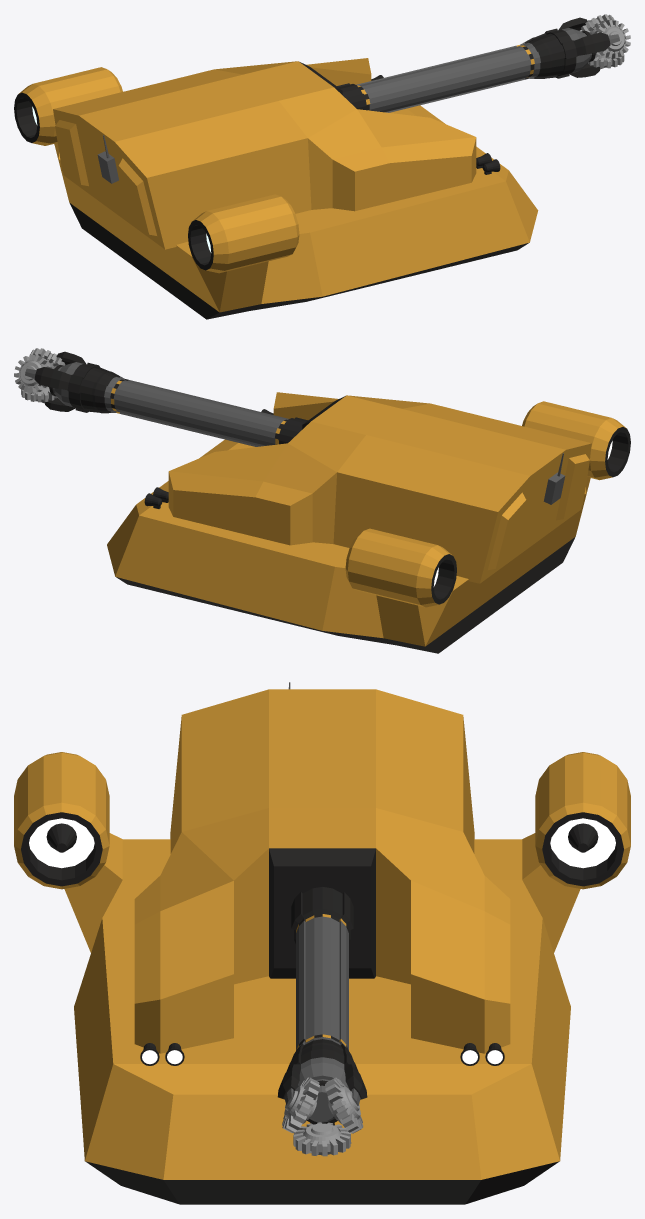
File: drill (1).fbx
The picture shows the model from 3 angles, top to bottom: view 1: azimuth 30°, elevation 25°; view 2: azimuth 150°, elevation 25°; view 3: azimuth 270°, elevation 25°; orthographic projection. The views are drawn at different scales.
Visible parts, largest first — view 1: Cylinder.003, drill bit; view 2: Cylinder.003, drill bit; view 3: Cylinder.003, drill bit.
Boxes of the visible parts, bbox=[...] form: Cylinder.003: bbox=[14, 17, 619, 319]; drill bit: bbox=[579, 14, 630, 68]; Cylinder.003: bbox=[25, 351, 630, 653]; drill bit: bbox=[14, 348, 65, 402]; Cylinder.003: bbox=[14, 682, 630, 1204]; drill bit: bbox=[282, 1077, 363, 1156].
Bounding box in the file's own units: 1917 × 557 × 1290.
